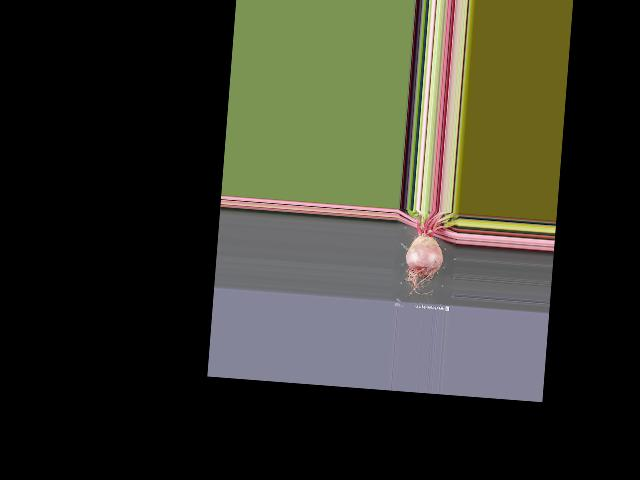beet: (402, 209, 459, 300)
